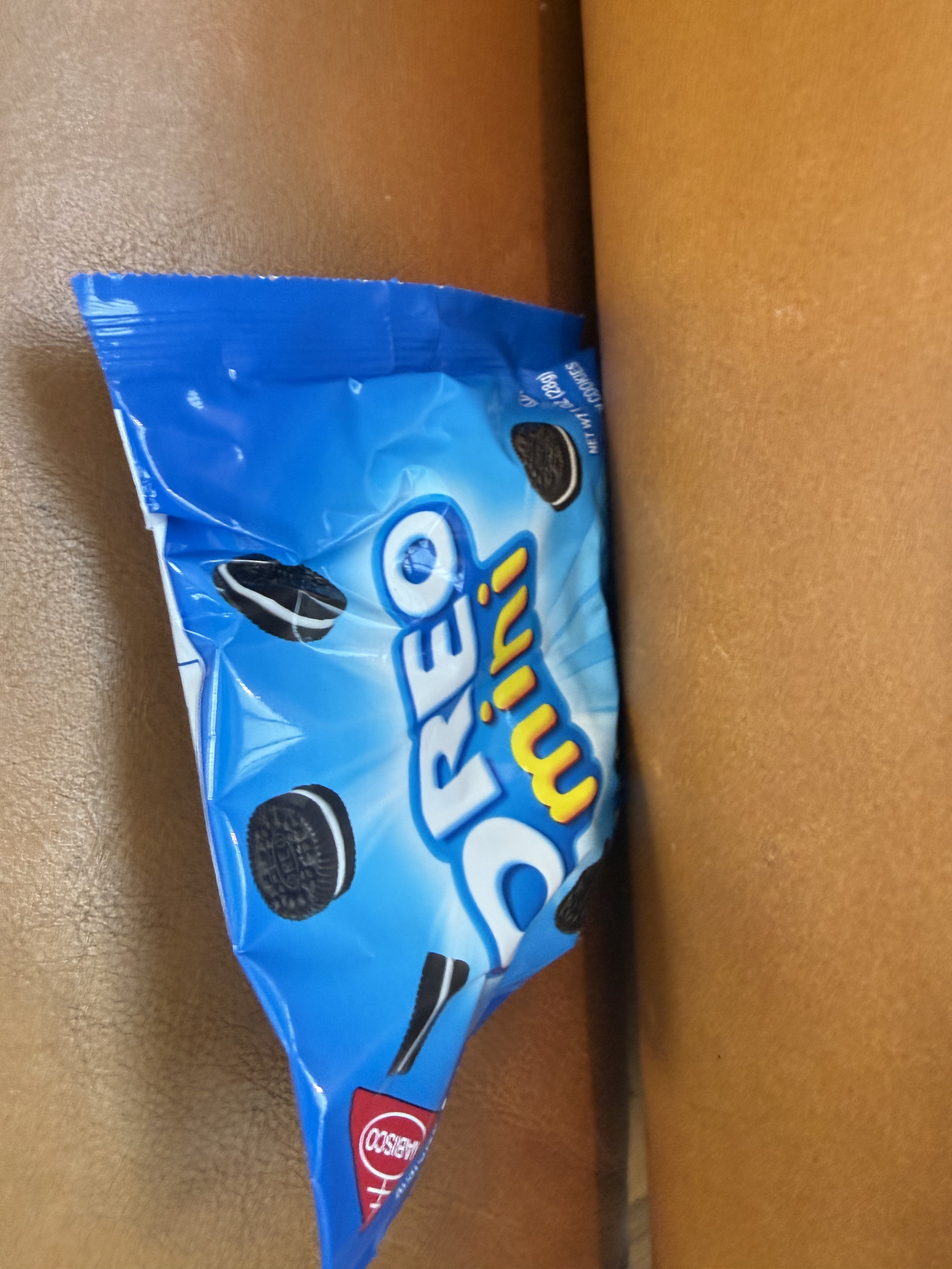oreo_mini: (68, 198, 641, 1206)
